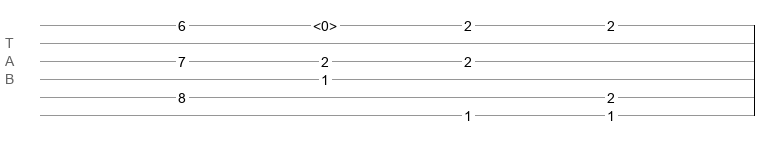1: (321, 72, 329, 82), (464, 108, 472, 118), (607, 108, 615, 118)
2: (321, 54, 329, 64), (464, 18, 472, 28), (464, 54, 472, 64), (607, 90, 615, 100), (607, 18, 615, 28)
6: (178, 18, 186, 28)
7: (178, 54, 186, 64)
8: (178, 90, 186, 100)
harmonic: (313, 18, 337, 28)
